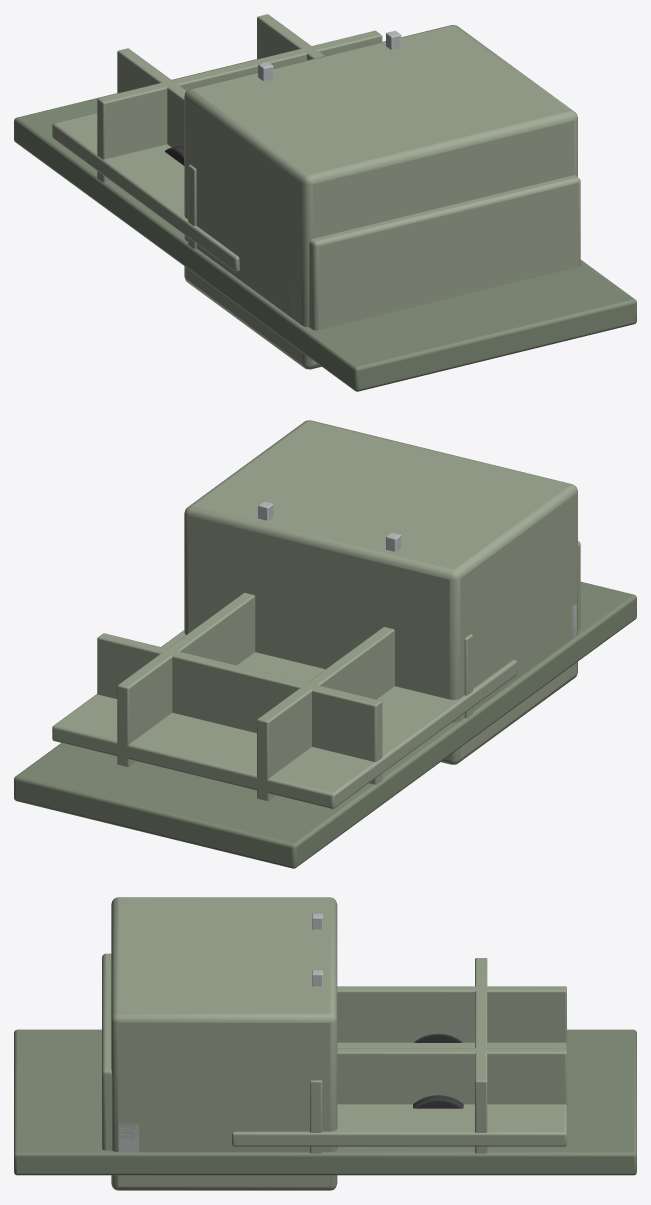
File: fieldvision-utility-vehicle.glb
3 views of the same model, one above another, from view 1: azimuth 30°, elevation 25°; view 2: azimuth 150°, elevation 25°; view 3: azimuth 270°, elevation 25° (orthographic). The views are drawn at different scales.
Parts seen in each view (by area): view 1: Cab, Chassis, Hood, BedRailTail, BedFloor, BedRailR, BedRailL, BedRailFront; view 2: Cab, Chassis, BedFloor, BedRailTail, BedRailL, BedRailR; view 3: Cab, Chassis, BedFloor, BedRailR, BedRailL, BedRailTail, Hood, BedRailFront, Bumper, Tire_1.0_1.45.
Part boxes in pixels (<box>): Cab: <box>184,25,577,369</box>; Chassis: <box>14,59,636,391</box>; Hood: <box>309,175,580,330</box>; BedRailTail: <box>97,30,382,182</box>; BedFloor: <box>52,113,239,272</box>; BedRailR: <box>117,48,186,147</box>; BedRailL: <box>257,14,324,60</box>; BedRailFront: <box>188,164,196,248</box>; Cab: <box>184,420,577,764</box>; Chassis: <box>14,581,636,868</box>; BedFloor: <box>52,630,517,808</box>; BedRailTail: <box>97,633,382,784</box>; BedRailL: <box>117,592,255,766</box>; BedRailR: <box>257,627,394,800</box>; Cab: <box>111,897,337,1190</box>; Chassis: <box>14,1029,636,1175</box>; BedFloor: <box>232,1042,566,1146</box>; BedRailR: <box>337,986,566,1043</box>; BedRailL: <box>337,1048,566,1105</box>; BedRailTail: <box>475,958,487,1153</box>; Hood: <box>102,953,112,1150</box>; BedRailFront: <box>310,1080,322,1153</box>; Bumper: <box>119,1123,139,1152</box>; Tire_1.0_1.45: <box>413,1095,463,1108</box>.
Bounding box in the file's own units: 3.8 × 2.67 × 8.
